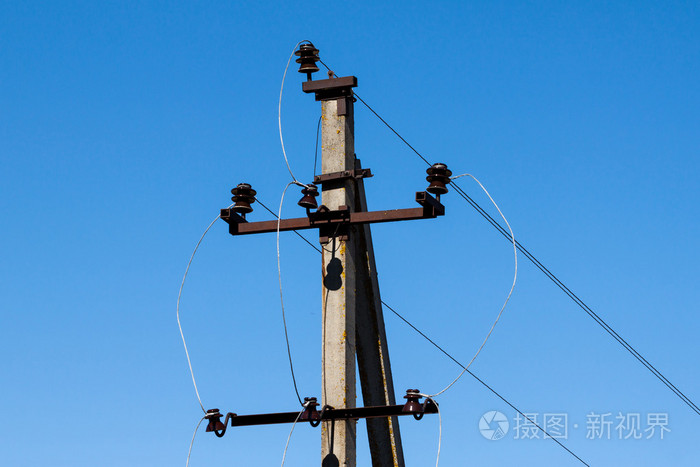insulator: (421, 164, 453, 196), (290, 46, 326, 74), (227, 182, 259, 213)
